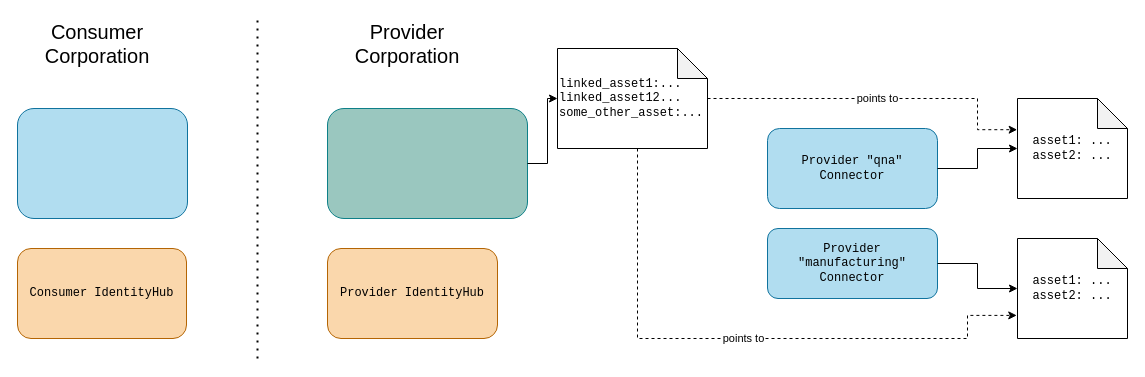
Image size: 1145x377. Some labels were removed from this diagram. Each missing label, with the box of its shape:
Consumer Connector (contains catalog crawler): (16, 108, 188, 218)
Provider Catalog Server: (326, 108, 528, 218)
